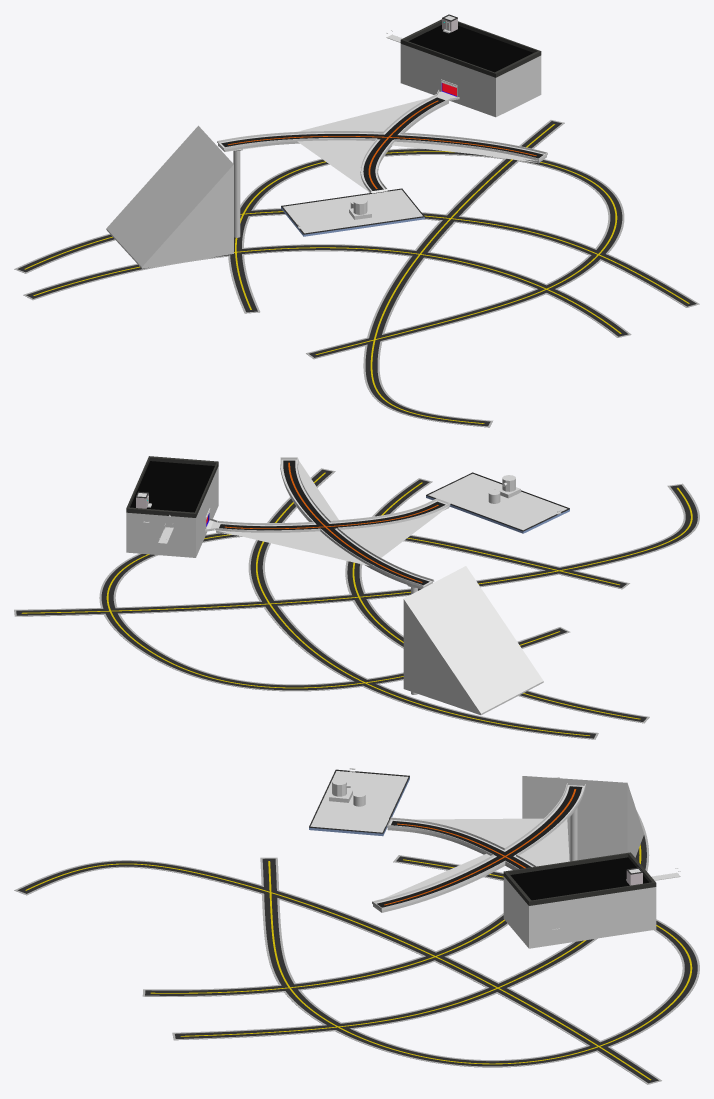
File: Megacity-Redreamed.fbx
3 renders of one model, top to bottom at view 1: azimuth 30°, elevation 25°; view 2: azimuth 150°, elevation 25°; view 3: azimuth 270°, elevation 25°, orthographic. The views are drawn at different scales.
Visible parts, largest first — view 1: lowerRoad2, Cube.027, Cube.005, lowerRoad3, 4, Cube.017, lowerRoad1, 2, 3, 1; view 2: lowerRoad2, Cube.027, lowerRoad3, Cube.005, 4, Cube.017, lowerRoad1, 2, 3, 1; view 3: lowerRoad2, Cube.005, lowerRoad3, Cube.027, 4, Cube.017, lowerRoad1, 2, 3, 1.
Boxes of the visible parts, x1=… form: lowerRoad2: x1=17, y1=121, x2=696, y2=426; Cube.027: x1=106, y1=125, x2=233, y2=268; Cube.005: x1=400, y1=19, x2=541, y2=117; lowerRoad3: x1=14, y1=120, x2=699, y2=427; 4: x1=217, y1=94, x2=547, y2=193; Cube.017: x1=281, y1=188, x2=424, y2=236; lowerRoad1: x1=24, y1=124, x2=689, y2=423; 2: x1=221, y1=97, x2=543, y2=190; 3: x1=218, y1=96, x2=546, y2=192; 1: x1=228, y1=100, x2=536, y2=188; lowerRoad2: x1=16, y1=469, x2=697, y2=738; Cube.027: x1=403, y1=566, x2=543, y2=715; lowerRoad3: x1=14, y1=468, x2=699, y2=739; Cube.005: x1=126, y1=456, x2=218, y2=557; 4: x1=215, y1=457, x2=450, y2=587; Cube.017: x1=426, y1=472, x2=569, y2=533; lowerRoad1: x1=21, y1=472, x2=692, y2=735; 2: x1=219, y1=460, x2=445, y2=585; 3: x1=216, y1=459, x2=449, y2=589; 1: x1=225, y1=462, x2=438, y2=582; lowerRoad2: x1=18, y1=835, x2=697, y2=1083; Cube.005: x1=503, y1=852, x2=656, y2=948; lowerRoad3: x1=14, y1=777, x2=699, y2=1084; Cube.027: x1=522, y1=776, x2=643, y2=861; 4: x1=372, y1=783, x2=585, y2=910; Cube.017: x1=309, y1=769, x2=409, y2=836; lowerRoad1: x1=25, y1=844, x2=692, y2=1080; 2: x1=377, y1=786, x2=582, y2=907; 3: x1=373, y1=785, x2=584, y2=912; 1: x1=384, y1=789, x2=576, y2=905.
Bounding box in the file's own units: 1919 × 499 × 1810.
